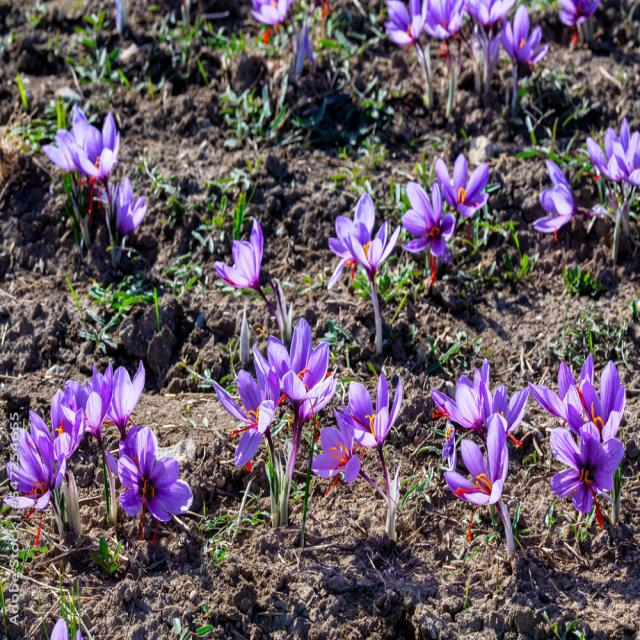saffron open: (444, 412, 514, 555), (213, 349, 280, 467), (346, 221, 400, 354), (550, 422, 624, 513), (336, 373, 402, 474), (268, 319, 329, 420), (401, 182, 454, 283), (215, 219, 271, 308), (534, 159, 578, 240), (311, 412, 360, 482), (435, 154, 489, 217), (72, 112, 120, 180), (501, 4, 549, 62), (116, 178, 148, 236)
